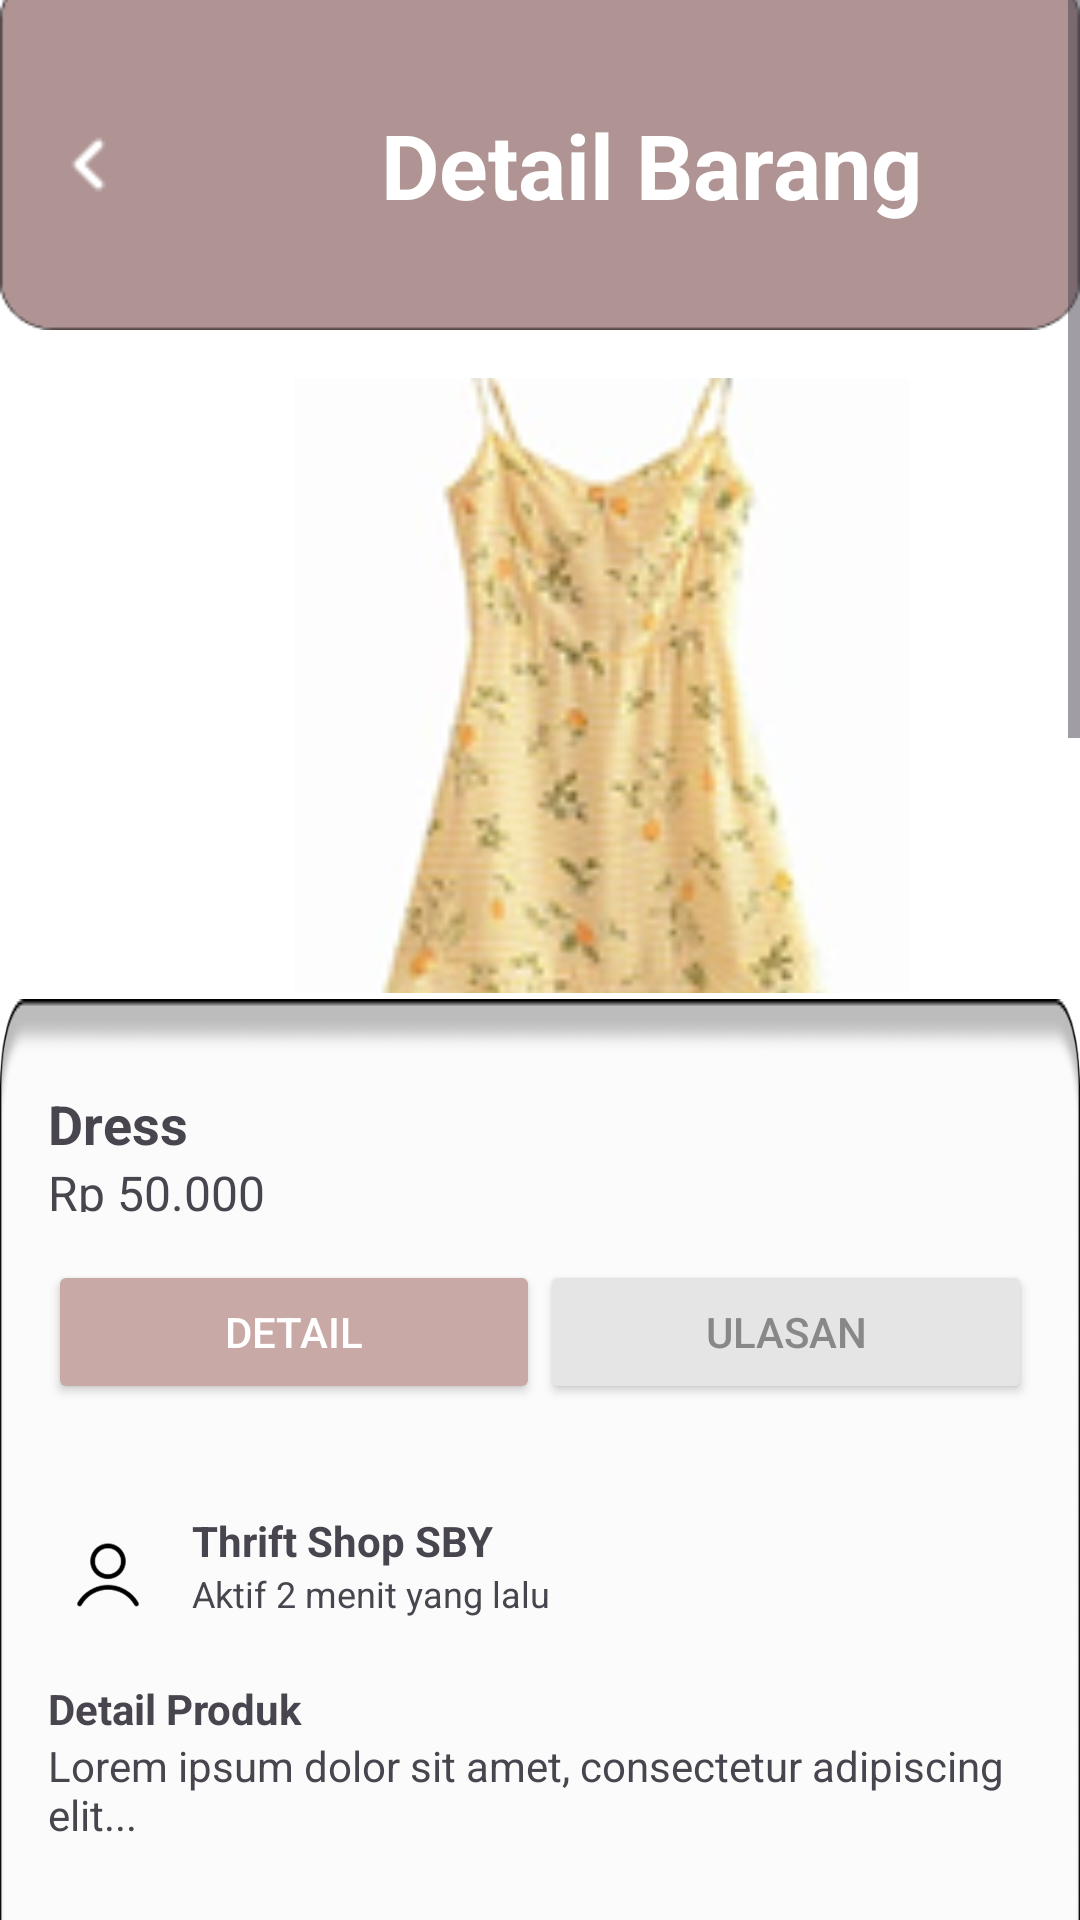

Icons on this 1080w x 1920h Android screen, each with its box as (left=x1, top=y1, right=x2, bottom=y2):
Kembali: (left=73, top=139, right=104, bottom=190)
profil: (left=77, top=1543, right=139, bottom=1607)
